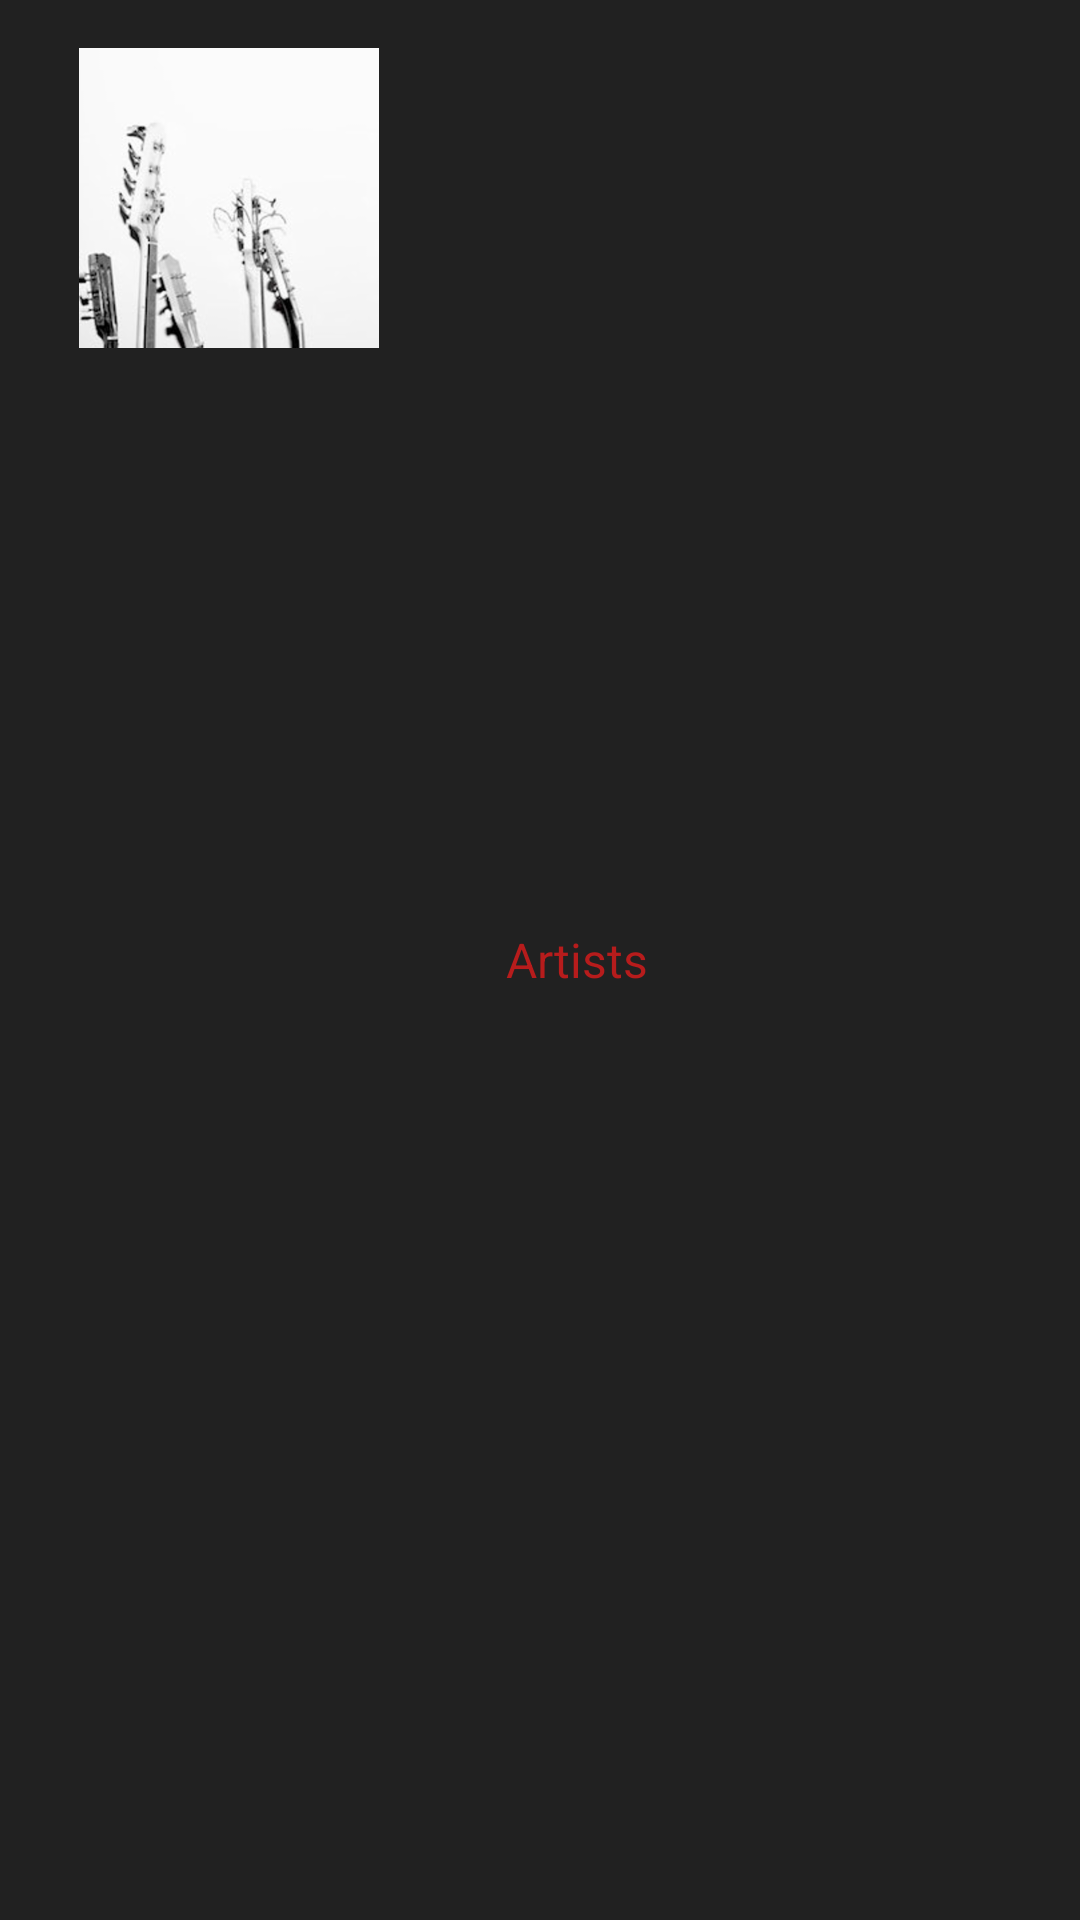

Where to tap for icons on this 1080px x 1920px app screen, as point (x, y):
Artist picture: point (229, 198)
